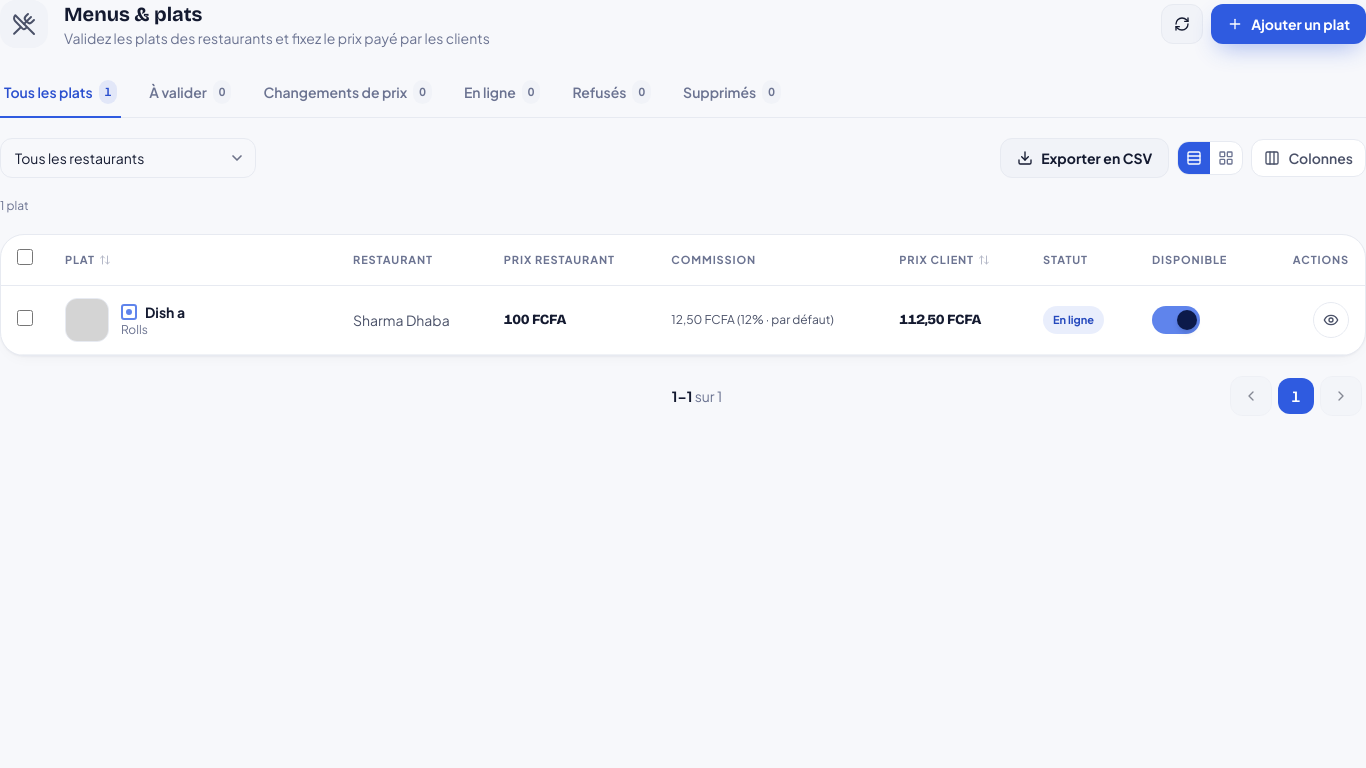
Test: CatalogPanel › Add dish opens the empty form
Click the button "Ajouter un plat" at (1289, 24), box [1211,4,1365,44]
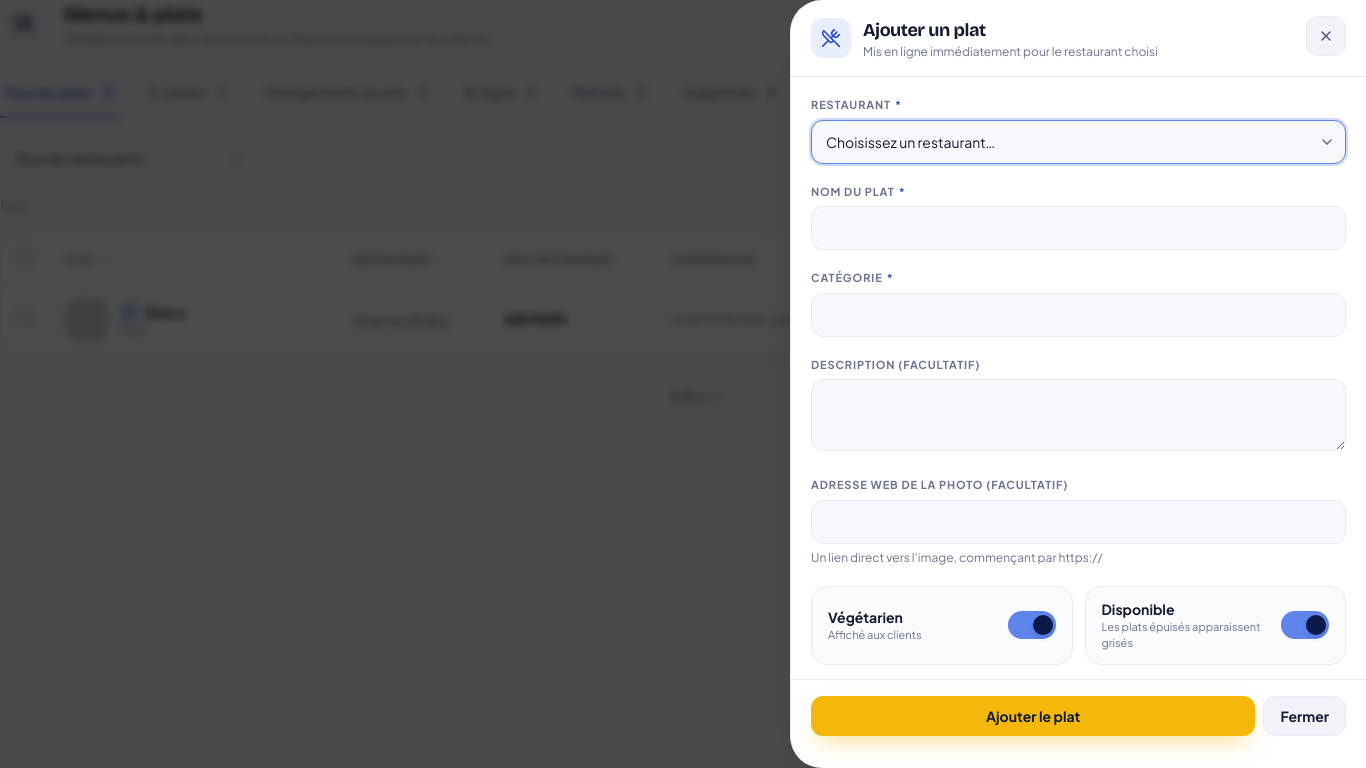
expect the dialog shows "Ajouter un plat": met, box [863,19,986,41]
